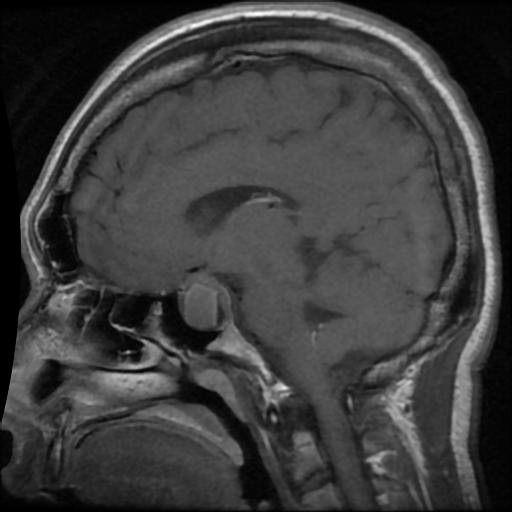Pituirity_tumour: (179, 272, 230, 328)
